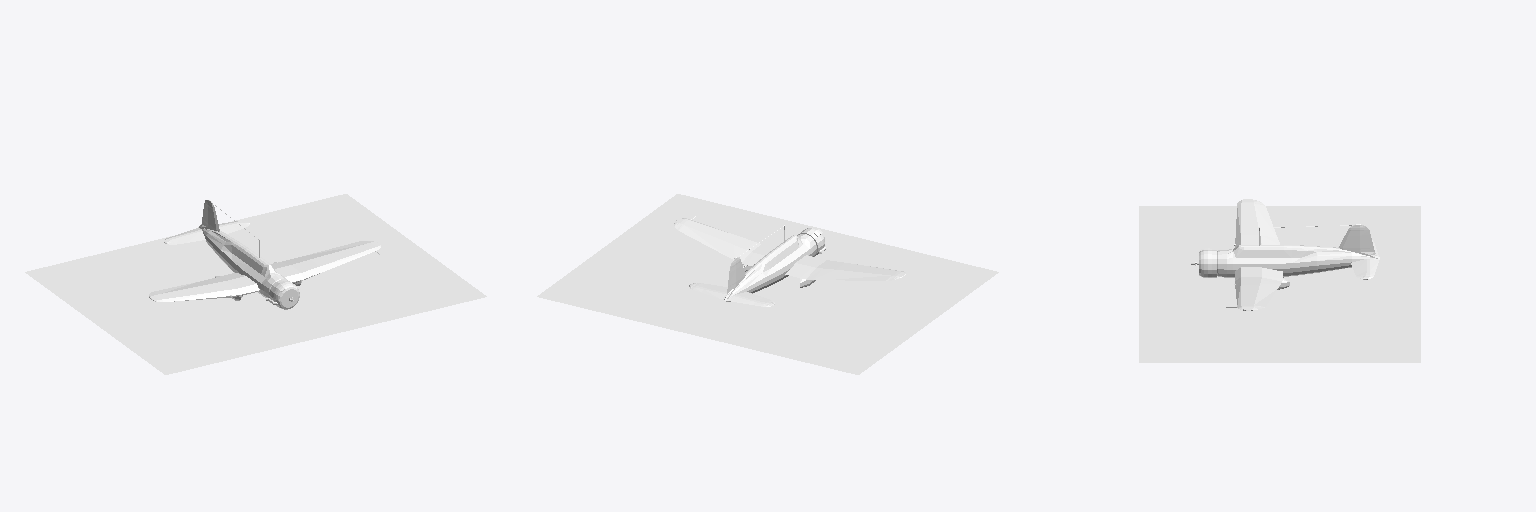
The model's file is SWEB17.obj.
The picture shows the model from 3 angles: view 1: azimuth 30°, elevation 25°; view 2: azimuth 150°, elevation 25°; view 3: azimuth 270°, elevation 25°; orthographic projection.
Parts seen in each view (by area): view 1: g0; view 2: g0; view 3: g0.
Boxes of the visible parts, box(x1,y1,x2,y2) form: g0: box(25, 194, 486, 374); g0: box(537, 194, 998, 374); g0: box(1139, 199, 1420, 362).
Size of the model in its own units: 163 by 27.57 by 124.